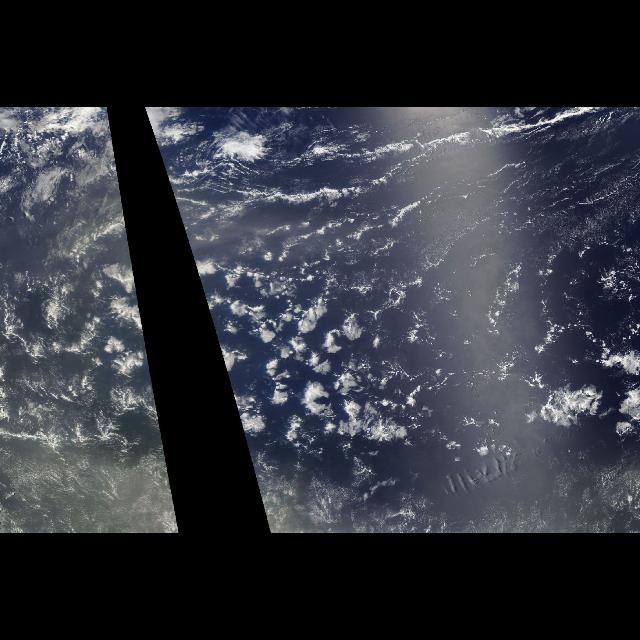Gravel: (214, 216, 496, 528)
Sugar: (503, 124, 637, 348)
